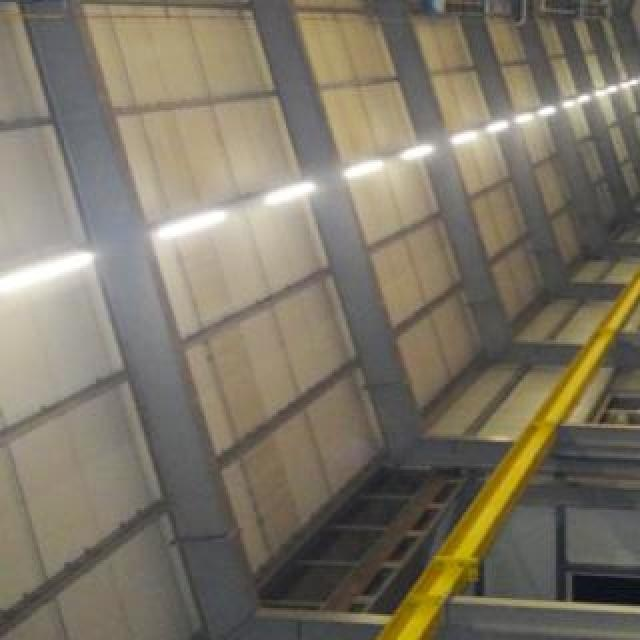fluorescent tube: (0, 234, 104, 322), (146, 202, 238, 256), (333, 155, 387, 198), (258, 175, 311, 213), (380, 140, 438, 173), (444, 120, 484, 158)
